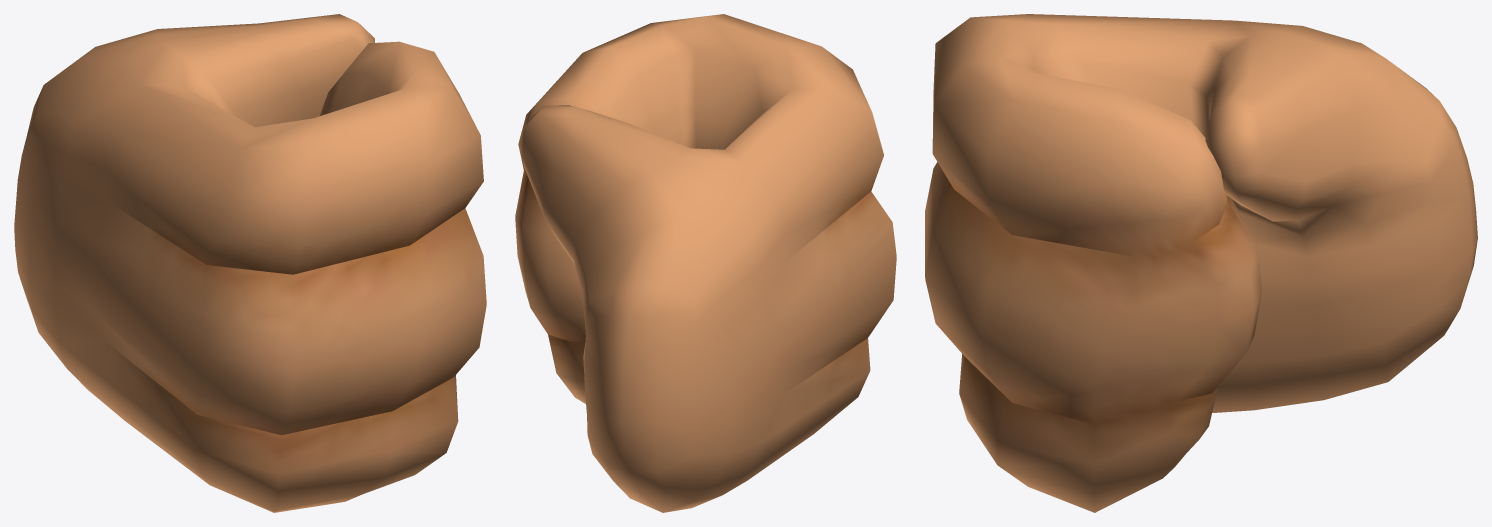
File: Grip_R.fbx
3 views of the same model, side by side, from view 1: azimuth 30°, elevation 25°; view 2: azimuth 150°, elevation 25°; view 3: azimuth 270°, elevation 25° (orthographic). The views are drawn at different scales.
Parts seen in each view (by area): view 1: Hand_Grip_R; view 2: Hand_Grip_R; view 3: Hand_Grip_R.
Boxes of the visible parts, x1,y1,x2,y2 form: Hand_Grip_R: (14, 14, 486, 512); Hand_Grip_R: (515, 14, 896, 512); Hand_Grip_R: (925, 14, 1477, 512).
Size of the model in its own units: 0.2069 by 0.2512 by 0.2913.
